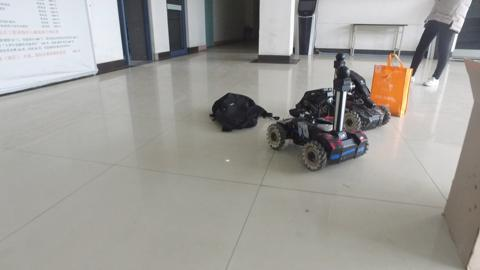bag: (369, 56, 407, 109)
chariot: (262, 68, 374, 167)
